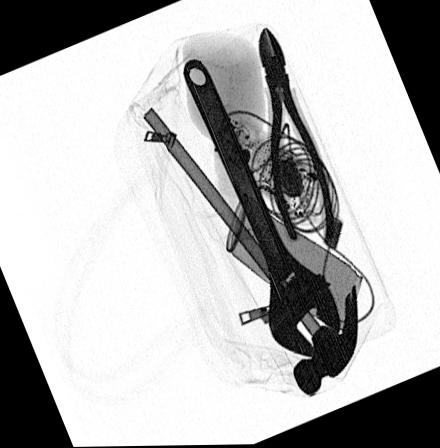Hammer: (141, 101, 357, 395)
Pliers: (257, 25, 334, 250)
Wrench: (178, 55, 341, 363)
